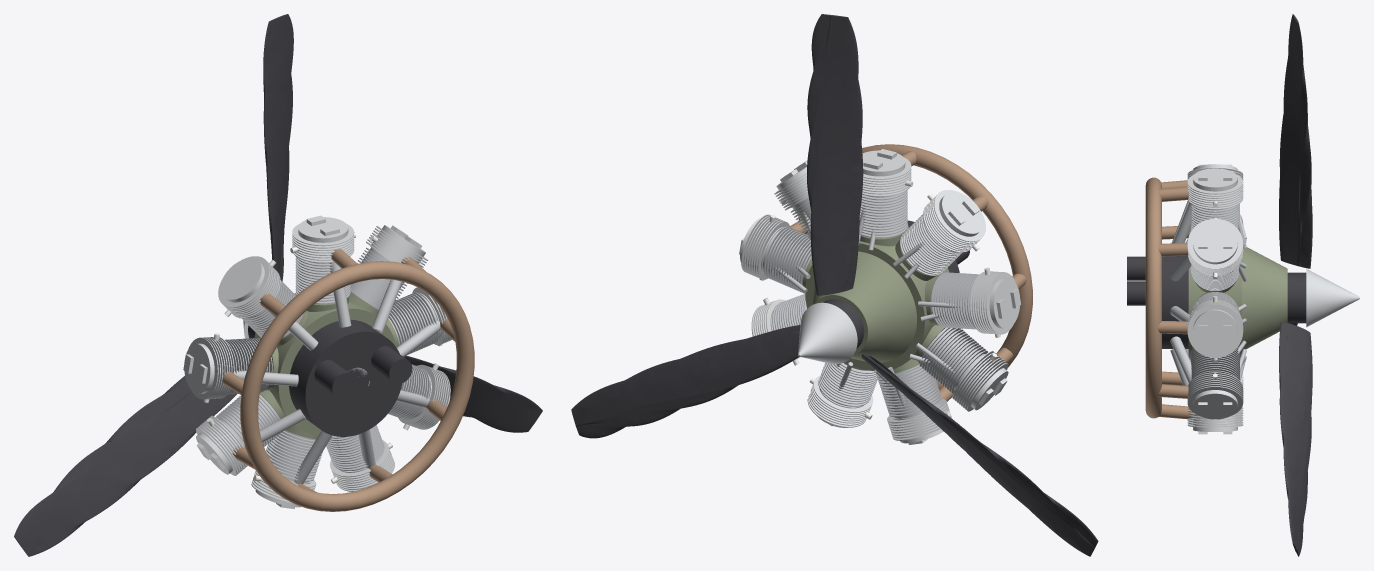
The model's file is aircraft.glb.
3 renders of one model, left to right at view 1: azimuth 30°, elevation 25°; view 2: azimuth 150°, elevation 25°; view 3: azimuth 270°, elevation 25°, orthographic. The views are drawn at different scales.
Visible parts, largest first — view 1: propeller, collector, accessory, crankcase, head9, head8, head1, head7, barrel3, barrel6, barrel5, head2 (+11 smaller); view 2: propeller, nosecase, collector, crankcase, spinner, head9, head8, barrel7, barrel3, head1, barrel8, head7 (+10 smaller); view 3: propeller, collector, nosecase, head2, head3, accessory, head4, head1, spinner, barrel4, head5, crankcase (+6 smaller).
Part boxes in pixels (left/top/right/bottom): propeller: left=14, top=14, right=542, bottom=556; collector: left=222, top=249, right=474, bottom=511; accessory: left=289, top=319, right=412, bottom=436; crankcase: left=254, top=292, right=399, bottom=439; head9: left=218, top=256, right=280, bottom=318; head8: left=183, top=337, right=234, bottom=399; head1: left=292, top=215, right=354, bottom=263; head7: left=196, top=415, right=247, bottom=475; barrel3: left=388, top=292, right=439, bottom=355; barrel6: left=266, top=430, right=322, bottom=482; barrel5: left=326, top=425, right=384, bottom=470; head2: left=366, top=225, right=427, bottom=267; propeller: left=571, top=14, right=1098, bottom=556; nosecase: left=812, top=251, right=916, bottom=362; collector: left=790, top=144, right=1032, bottom=401; crankcase: left=803, top=227, right=949, bottom=373; spinner: left=798, top=302, right=857, bottom=364; head9: left=923, top=190, right=985, bottom=252; head8: left=969, top=271, right=1020, bottom=334; barrel7: left=919, top=327, right=987, bottom=393; barrel3: left=763, top=226, right=811, bottom=293; head1: left=862, top=149, right=911, bottom=196; barrel8: left=931, top=272, right=979, bottom=329; head7: left=952, top=350, right=1008, bottom=411; propeller: left=1279, top=14, right=1312, bottom=556; collector: left=1145, top=177, right=1193, bottom=419; nosecase: left=1242, top=247, right=1287, bottom=351; head2: left=1187, top=218, right=1243, bottom=276; head3: left=1187, top=300, right=1243, bottom=357; accessory: left=1127, top=255, right=1188, bottom=348; head4: left=1187, top=372, right=1243, bottom=419; head1: left=1187, top=168, right=1243, bottom=209; spinner: left=1306, top=269, right=1359, bottom=327; barrel4: left=1190, top=348, right=1239, bottom=380; head5: left=1187, top=407, right=1243, bottom=434; crankcase: left=1188, top=259, right=1241, bottom=359.
Size of the model in its own units: 2.04 by 1.76 by 0.87.
